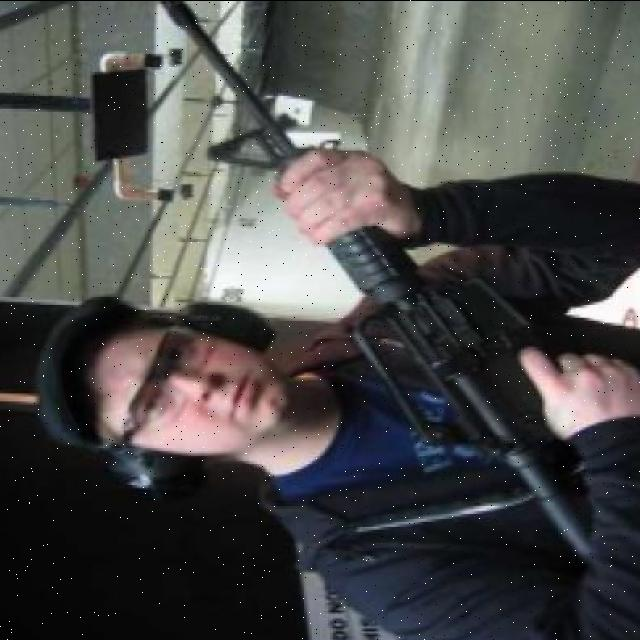Rifle: (159, 0, 596, 564)
